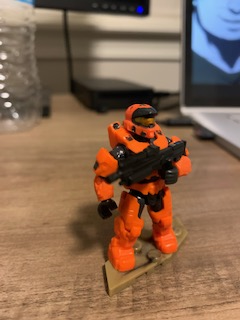rifle: (103, 139, 189, 189)
spartan: (86, 100, 190, 276)
